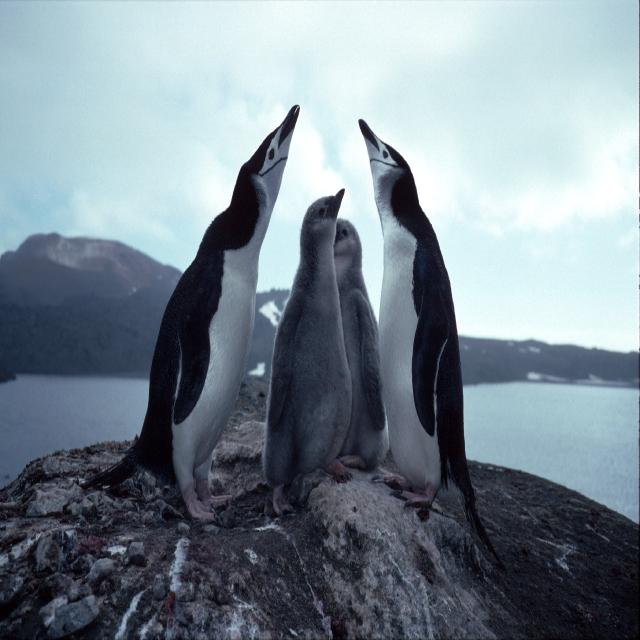Penguins: (114, 100, 302, 515), (354, 99, 478, 503), (262, 178, 350, 491), (318, 211, 391, 492)
